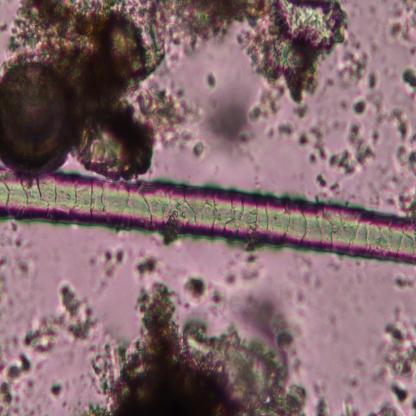Background material: (93, 252, 310, 414), (13, 0, 156, 180), (154, 0, 351, 105), (0, 276, 94, 412), (331, 43, 381, 178), (365, 295, 416, 414), (236, 286, 303, 361), (139, 81, 206, 155), (211, 89, 263, 162), (263, 104, 329, 160), (387, 97, 416, 214), (186, 270, 238, 312), (0, 221, 37, 278), (340, 351, 366, 414), (387, 0, 416, 55), (92, 246, 128, 280), (293, 254, 324, 293), (312, 374, 329, 416), (314, 170, 342, 194), (368, 166, 386, 202), (135, 254, 161, 277), (400, 63, 416, 94), (392, 270, 416, 289), (201, 70, 219, 90)
Diatom: (0, 59, 75, 178)
Hair: (0, 159, 416, 267)
